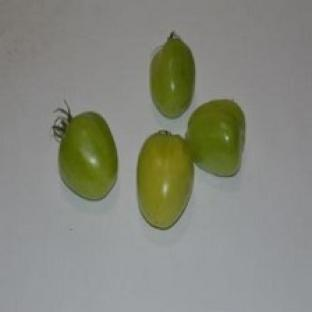Tomato: (53, 111, 118, 199), (137, 131, 193, 229), (186, 99, 245, 176), (150, 33, 194, 118)
